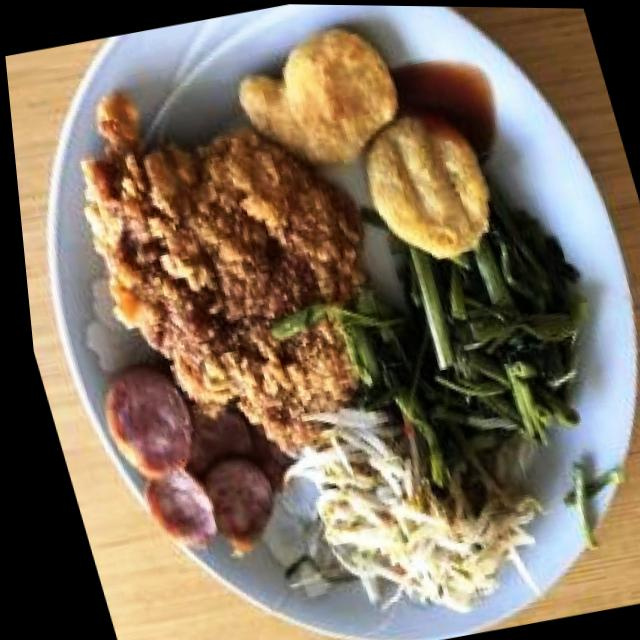chicken_nuggets: (221, 3, 511, 288)
chinese_sausage: (92, 343, 296, 570)
fried_chicken: (52, 51, 430, 488)
ketchup: (388, 49, 511, 167)
mung_bean_sprouts: (262, 375, 558, 640)
water_spinach: (335, 180, 635, 494)
